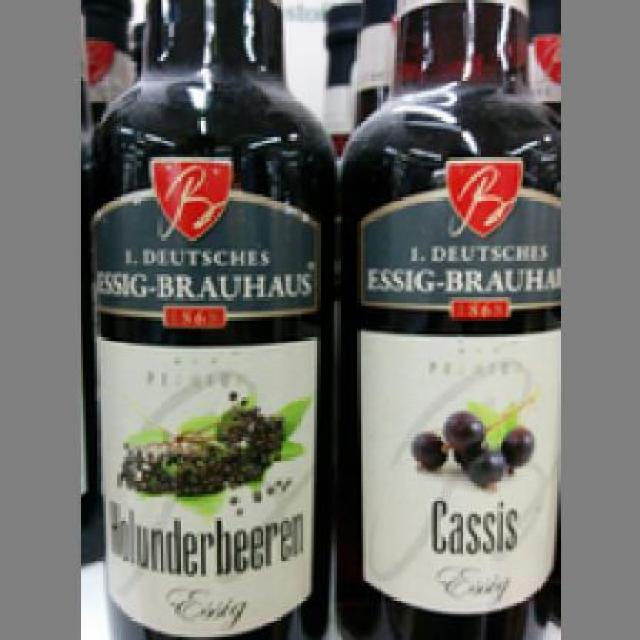Vinegar: (77, 0, 337, 637), (337, 0, 566, 637)
